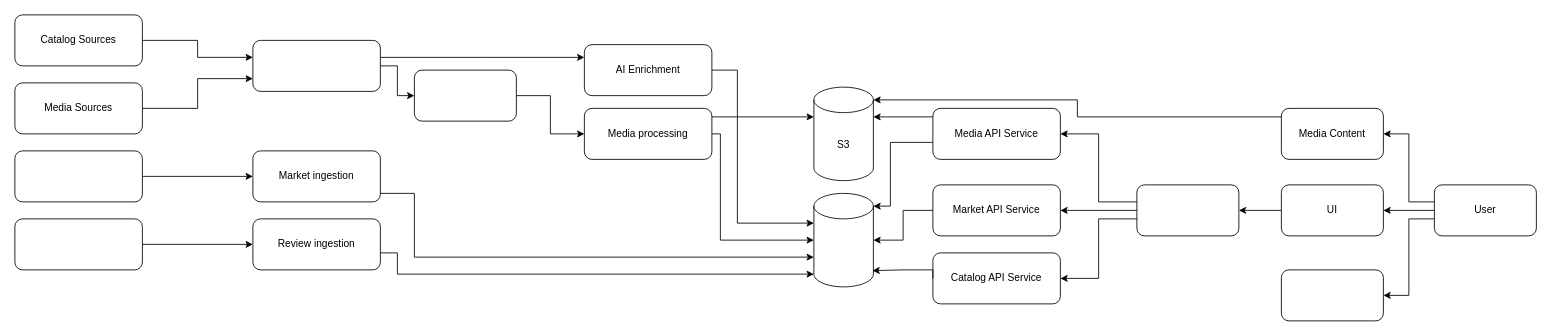
This 1551x336 diagram has some shape labels left out. The shapes that lost their labels are listed below. From the top down, each one's box as (x1, y1, x2, y2) in pixels, then its label:
(252, 40, 380, 91): Catalog ingestion
(414, 69, 516, 121): Event bus
(14, 150, 142, 202): Market prices Sources
(1136, 184, 1239, 236): Public API Service
(14, 218, 142, 270): Review Sources
(813, 193, 873, 287): Postgresql
(1281, 269, 1383, 321): Documention
